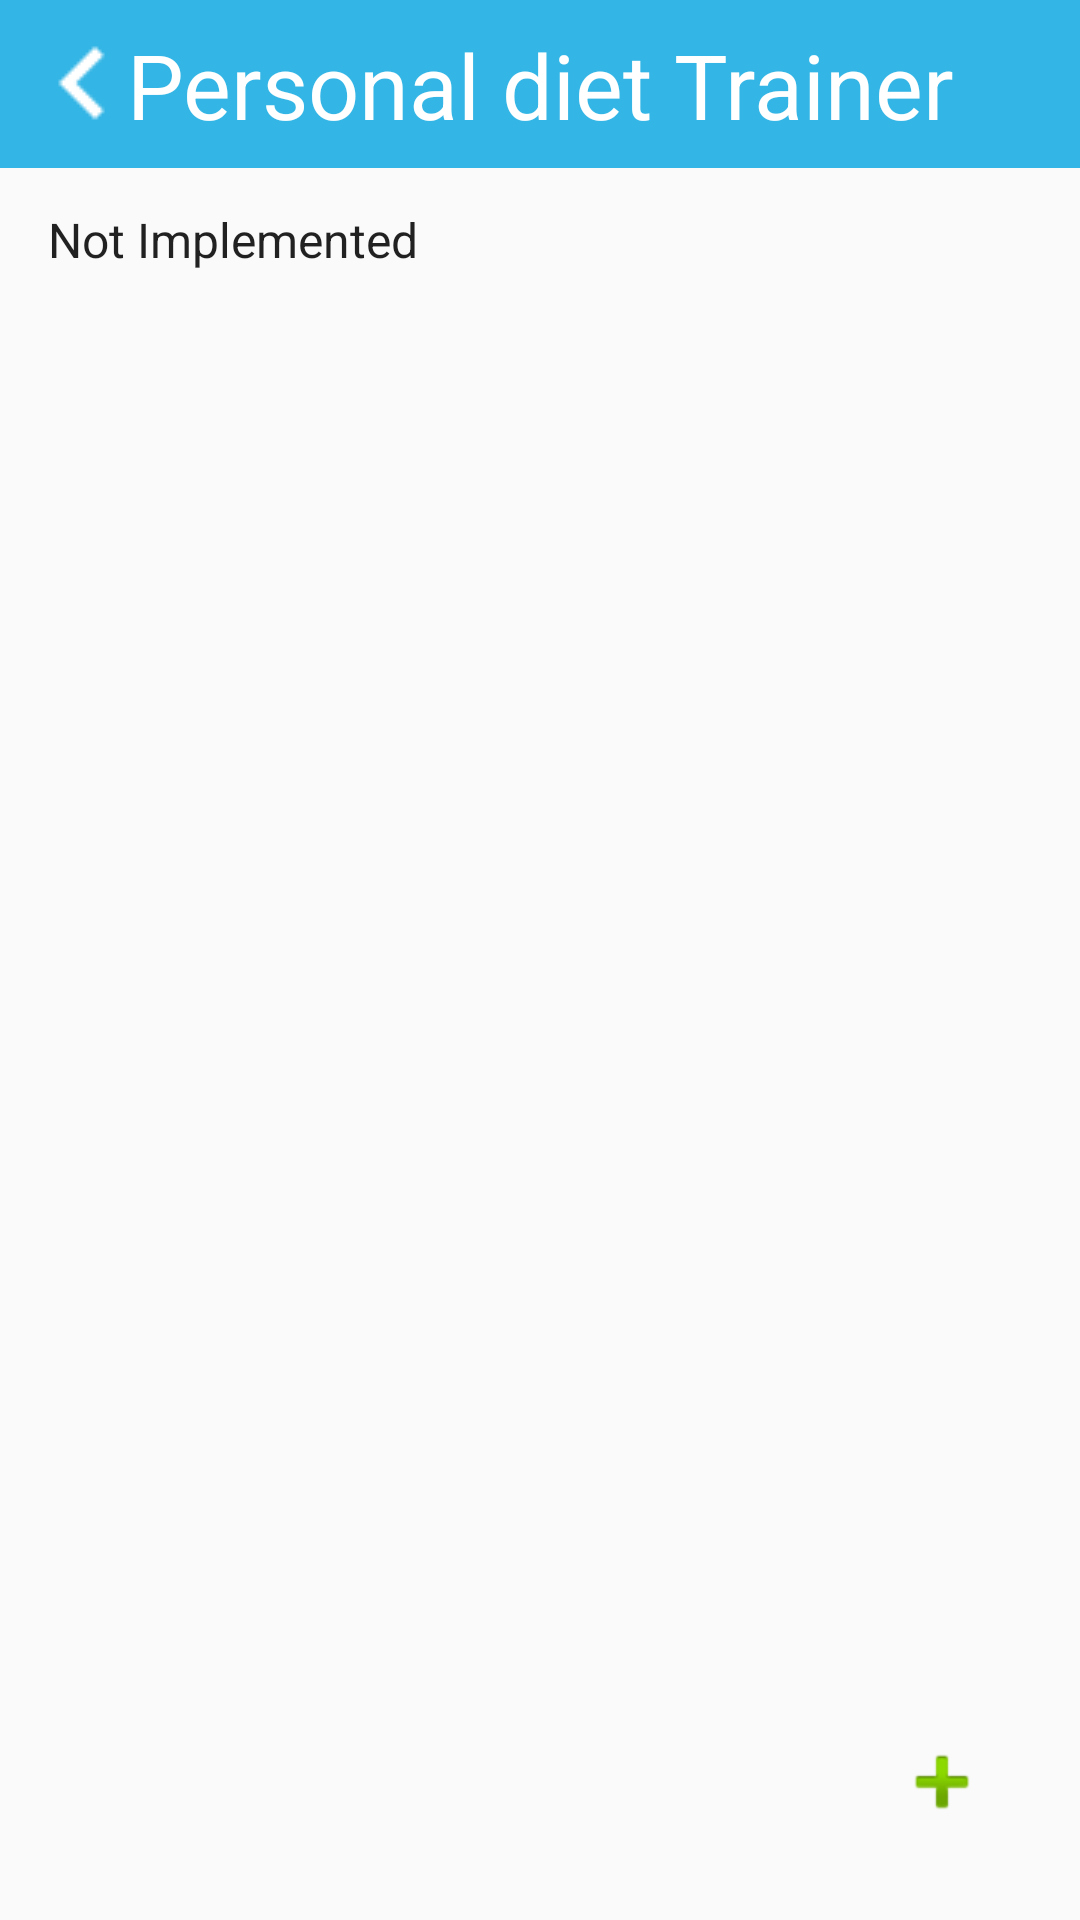

Screen size 1080x1920. Icon name, then its box in pixels as (x1, y1, x2, y2):
add: (915, 1755, 969, 1809)
Back to ClientForTrainer: (58, 46, 105, 120)
